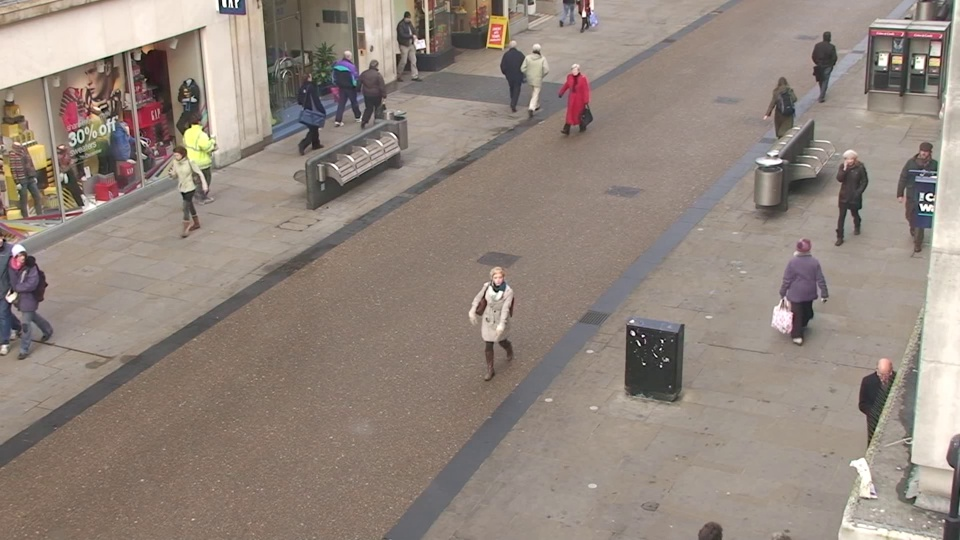pedestrian: (849, 348, 912, 509), (778, 231, 825, 358), (478, 260, 522, 395), (895, 138, 943, 243), (827, 146, 869, 251), (163, 143, 204, 243), (181, 109, 218, 200), (764, 73, 796, 158), (293, 67, 324, 148), (676, 503, 741, 540), (809, 29, 840, 104), (563, 61, 590, 142), (361, 56, 389, 134), (334, 47, 362, 122), (525, 40, 551, 114), (500, 37, 525, 111), (396, 10, 420, 75)
